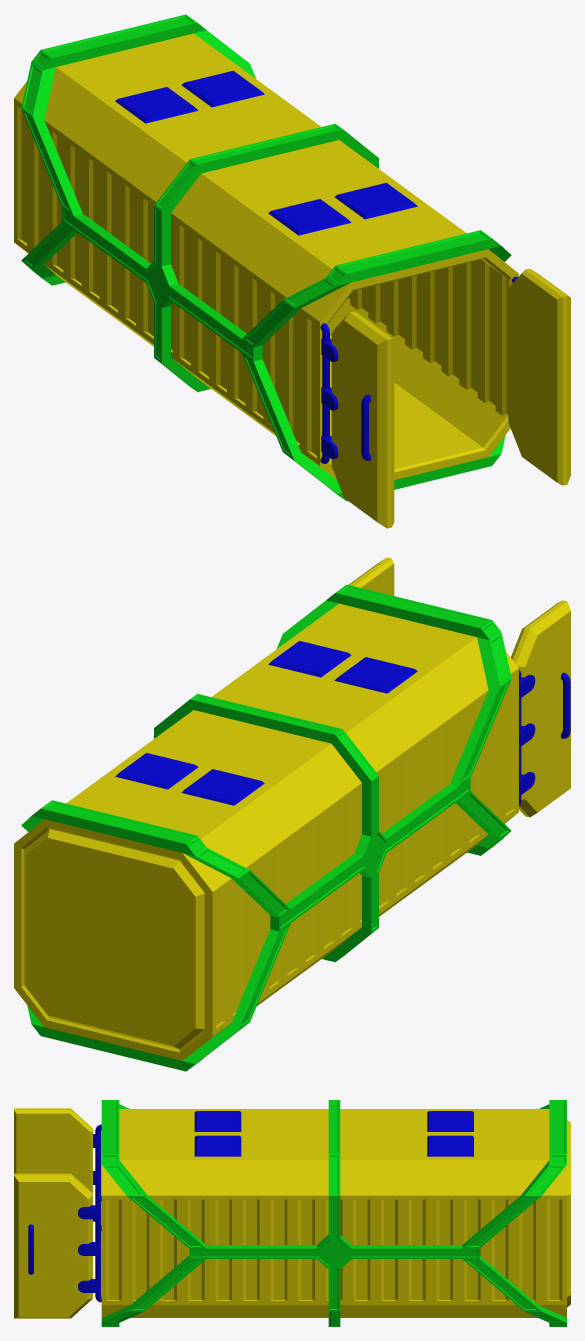
The model's file is SciFiContainer.fbx.
3 renders of one model, top to bottom at view 1: azimuth 30°, elevation 25°; view 2: azimuth 150°, elevation 25°; view 3: azimuth 270°, elevation 25°, orthographic. The views are drawn at different scales.
Visible parts, largest first — view 1: SciFi_Container, Door_1, Door_2; view 2: SciFi_Container, Door_1, Door_2; view 3: SciFi_Container, Door_2, Door_1.
Part boxes in pixels (x1,y1,x2,y2): SciFi_Container: [14, 14, 518, 501]; Door_1: [321, 311, 394, 528]; Door_2: [508, 268, 570, 485]; SciFi_Container: [14, 584, 521, 1071]; Door_1: [511, 600, 570, 817]; Door_2: [348, 557, 394, 595]; SciFi_Container: [95, 1100, 570, 1326]; Door_2: [14, 1173, 101, 1318]; Door_1: [14, 1108, 101, 1221].
Bounding box in the file's own units: 328 × 328 × 958.
